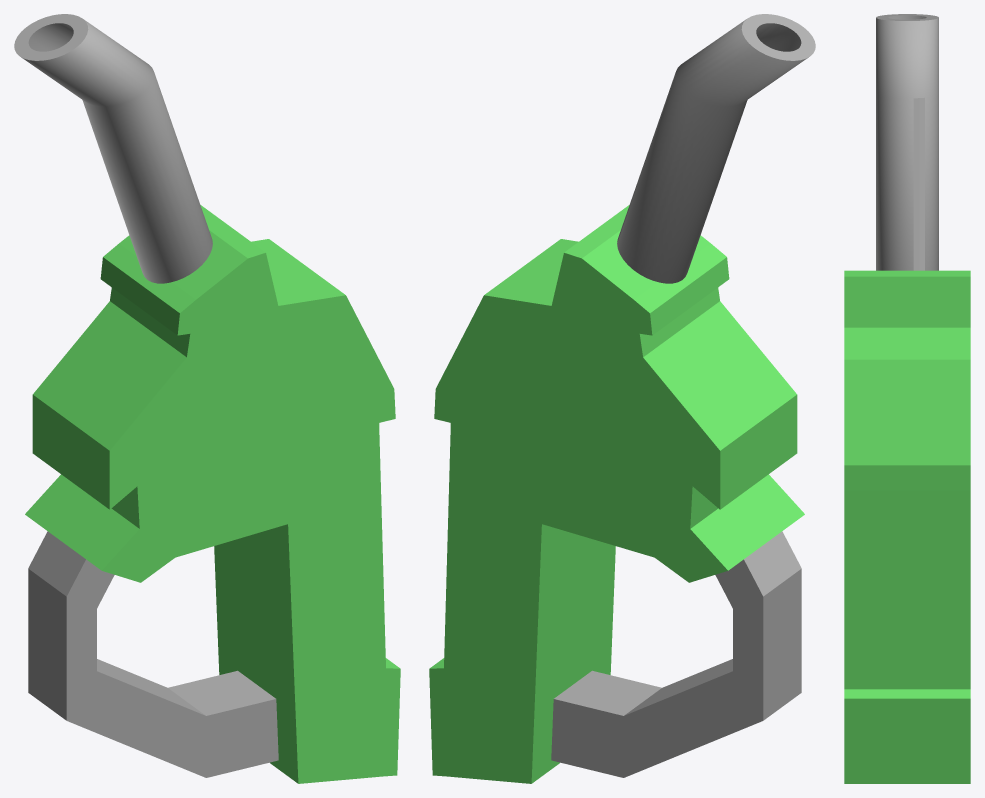
File: GasPump.fbx
3 renders of one model, left to right at view 1: azimuth 30°, elevation 25°; view 2: azimuth 150°, elevation 25°; view 3: azimuth 270°, elevation 25°, orthographic. The views are drawn at different scales.
Parts seen in each view (by area): view 1: GasPump, Trigger, Pump; view 2: GasPump, Trigger, Pump; view 3: GasPump, Pump.
Part boxes in pixels (x1,y1,x2,y2): GasPump: [25, 205, 400, 783]; Trigger: [28, 531, 278, 777]; Pump: [14, 14, 212, 283]; GasPump: [429, 205, 804, 783]; Trigger: [551, 531, 801, 777]; Pump: [617, 14, 815, 283]; GasPump: [844, 270, 970, 783]; Pump: [876, 14, 938, 270].
Size of the model in its own units: 15.41 by 34.2 by 6.
